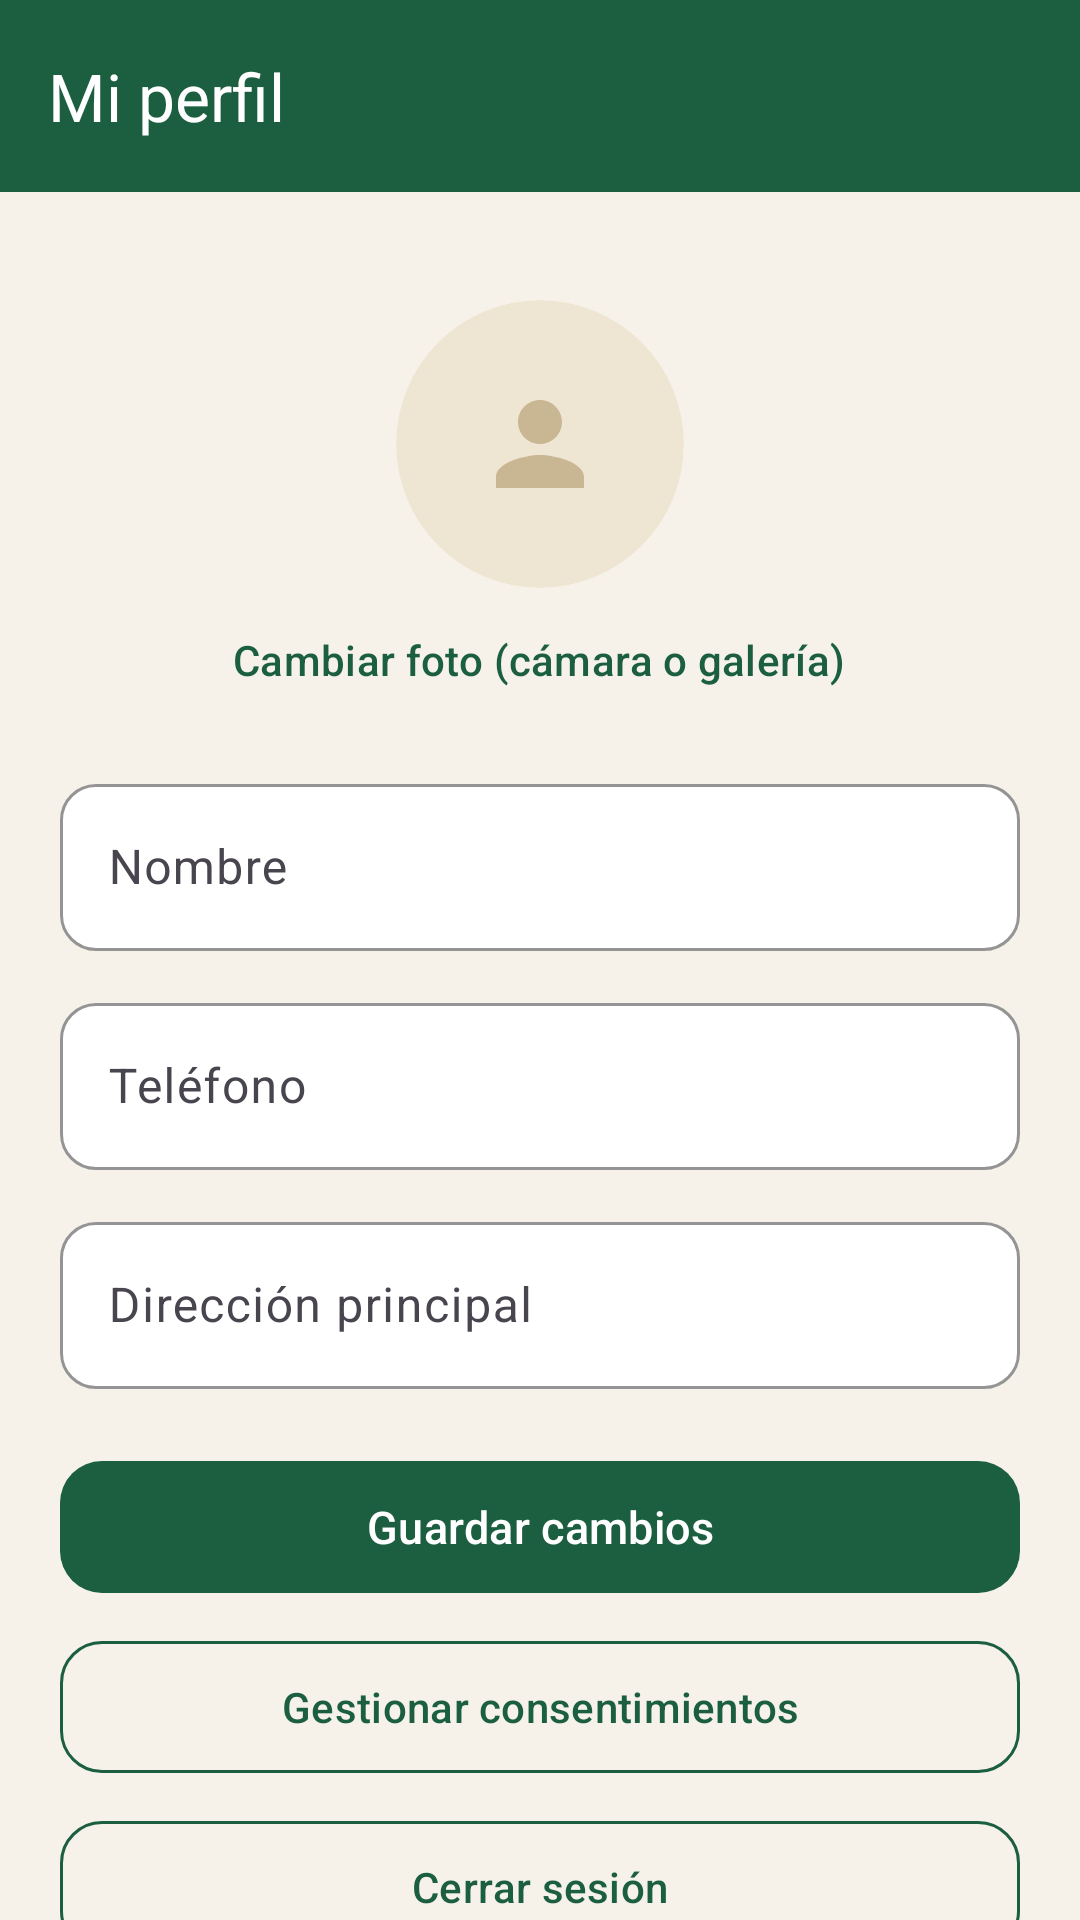

Icons on this 1080px×1920px Android screen, each with the point to tap as (x=x, y=y):
Foto de perfil: (x=540, y=444)
